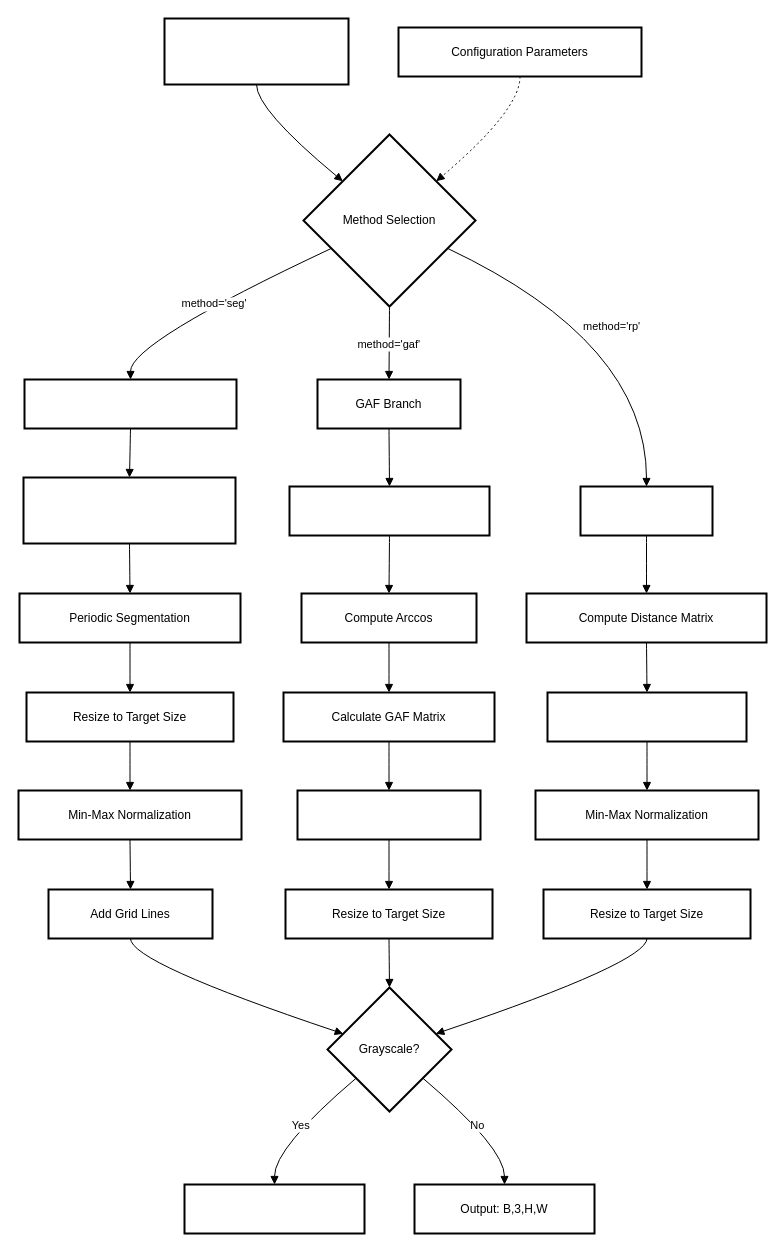
Image size: 784x1251. Some labels were removed from this diagram. Here are the shapes that lost their labels. From the top down, the box of each, then its label:
(163, 17, 349, 85): Input Time Series Shape: B,L,D
(23, 378, 237, 429): Segmentation Branch
(22, 476, 236, 544): Channel Independent Processing
(288, 485, 490, 536): Normalize to Range
(579, 485, 713, 536): RP Branch
(546, 691, 747, 742): Gaussian Transform
(296, 789, 481, 840): Average Features
(183, 1183, 365, 1234): Output: B,1,H,W
